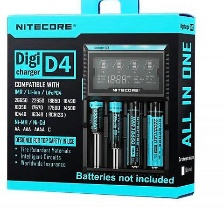battery: (145, 99, 165, 170), (125, 100, 143, 171), (106, 99, 123, 149), (87, 99, 104, 134)
book: (4, 0, 198, 203)
